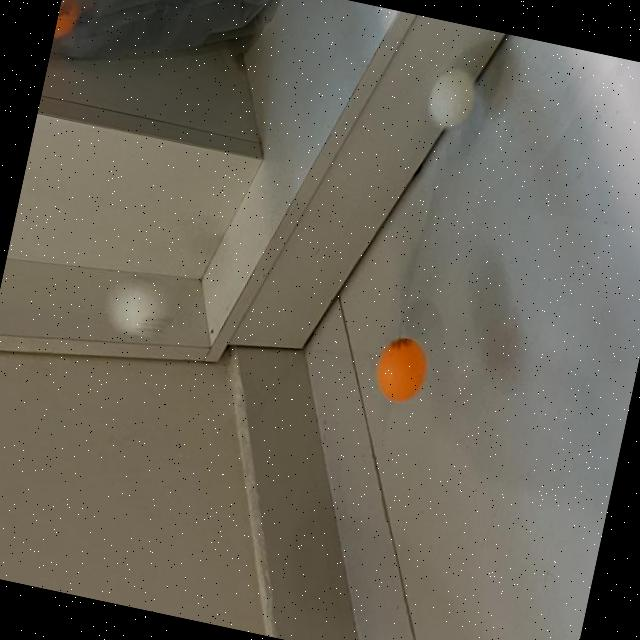ping-pong-ball: (109, 274, 179, 339), (370, 334, 430, 404), (426, 61, 480, 128), (54, 0, 85, 37)
